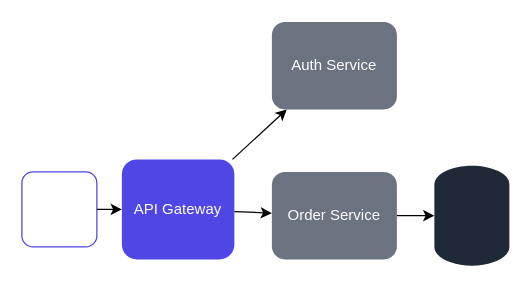
Image size: 531x286. Some labels were removed from this diagram. Each missing label, with the centre of its shape:
"Client" belongs at (59,209).
"Order DB" belongs at (471,215).
